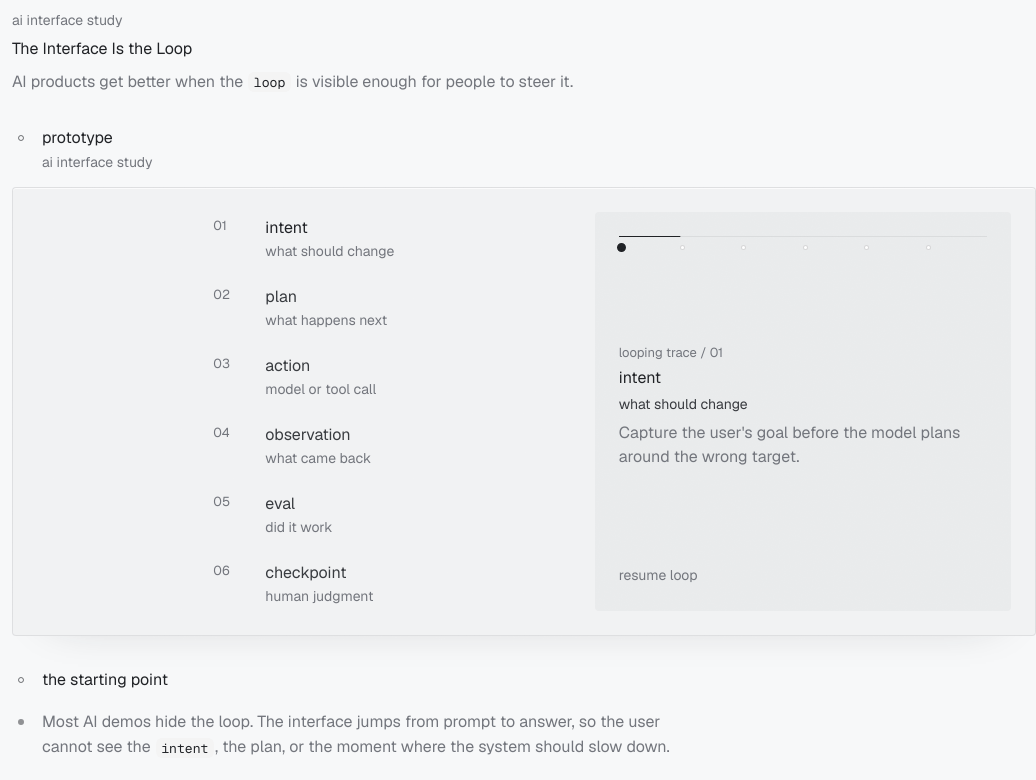
Scenario: LabStudyDetailView interactions › lets the AI loop study move between trace steps
Expected: the text "loop" is shown, [248, 72, 291, 92]
Expected: the text "Capture the user's goal before the model plans around the wrong target." is shown, [619, 421, 987, 470]
Click the button "06 checkpoint human judgment" at (304, 584), box [213, 558, 394, 611]
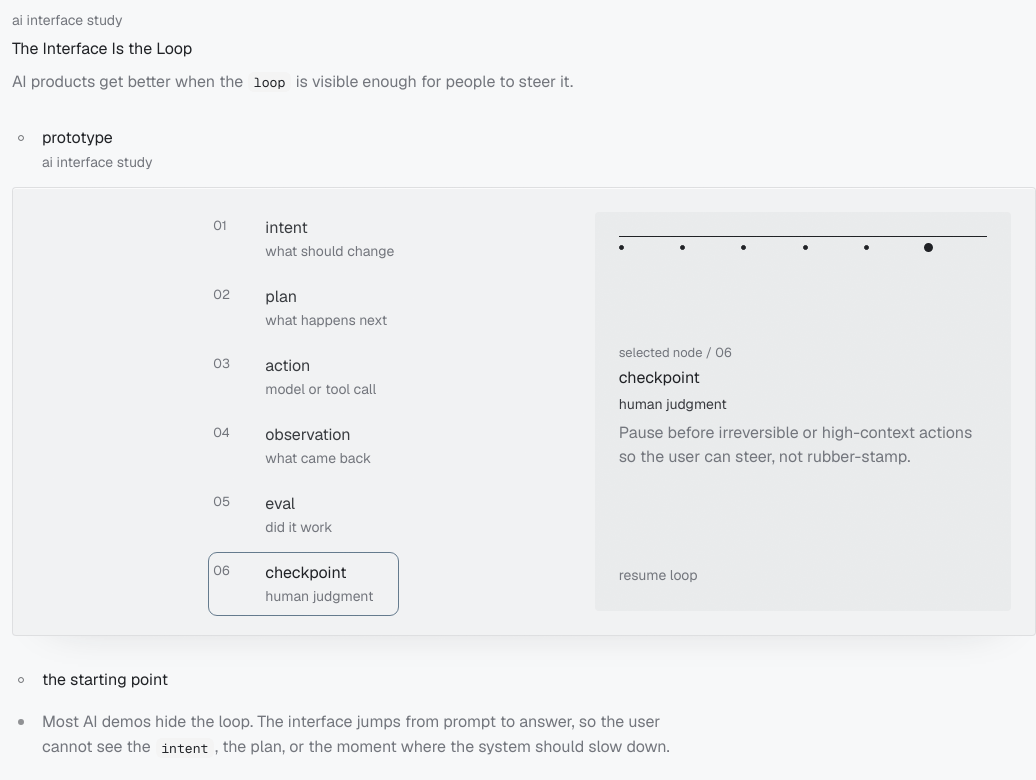
Expected: the button "resume loop" is shown, [619, 565, 698, 587]
Now the text "Pause before irreversible or high-context actions so the user can steer, not rubber-stamp." is shown, box [619, 422, 972, 467]
